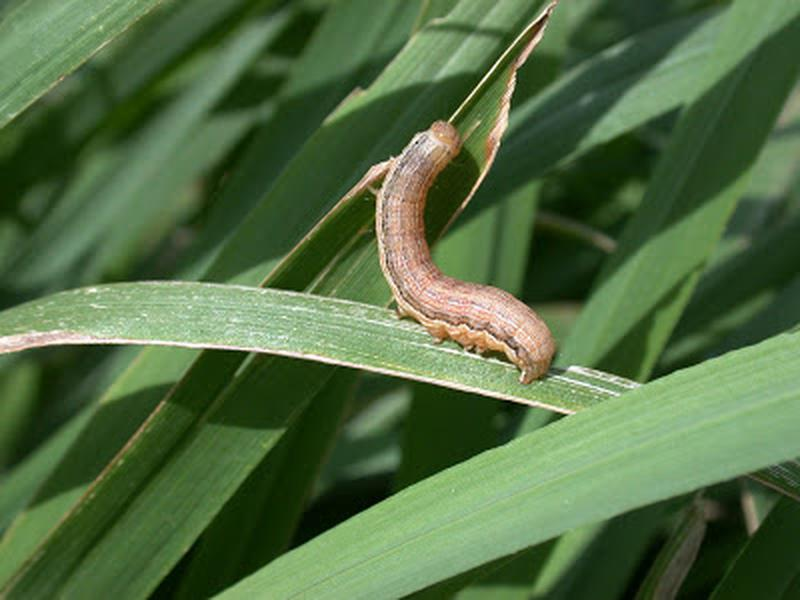Whorl_maggot: (358, 110, 573, 394)
